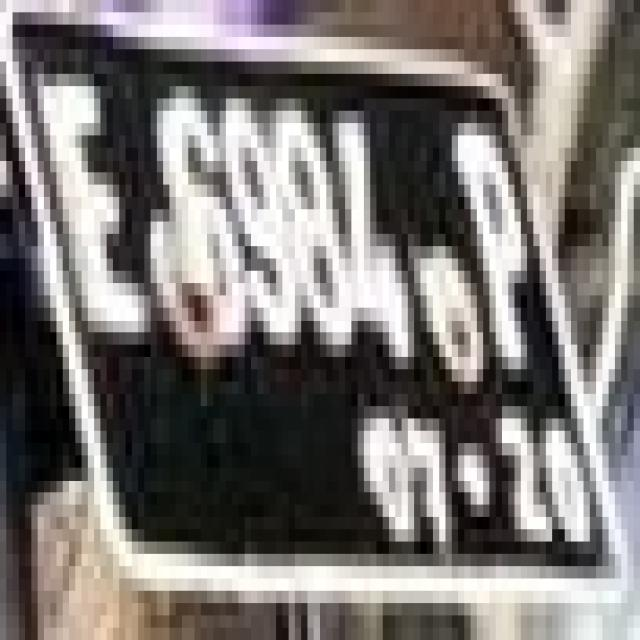plate: (0, 0, 634, 591)
